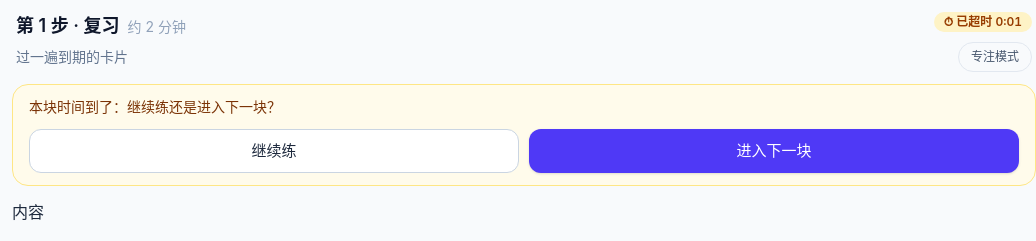
Scenario: StepRunner budget › time is up: a gentle prompt, nothing is stopped; 继续练 dismisses it
This screenshot has width=1036, height=241.
Expected: the message with test id "budget-over" shows "本块时间到了：继续练还是进入下一块？", [29,98,281,115]
Expected: the text with test id "step-clock" shows "已超时", [956,14,1022,29]
Click the button "继续练".
click(274, 151)  # box [29,129,519,173]
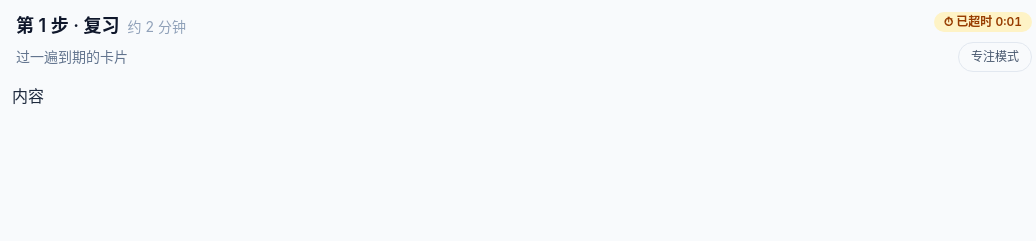
Expected: the message with test id "budget-over" is gone
